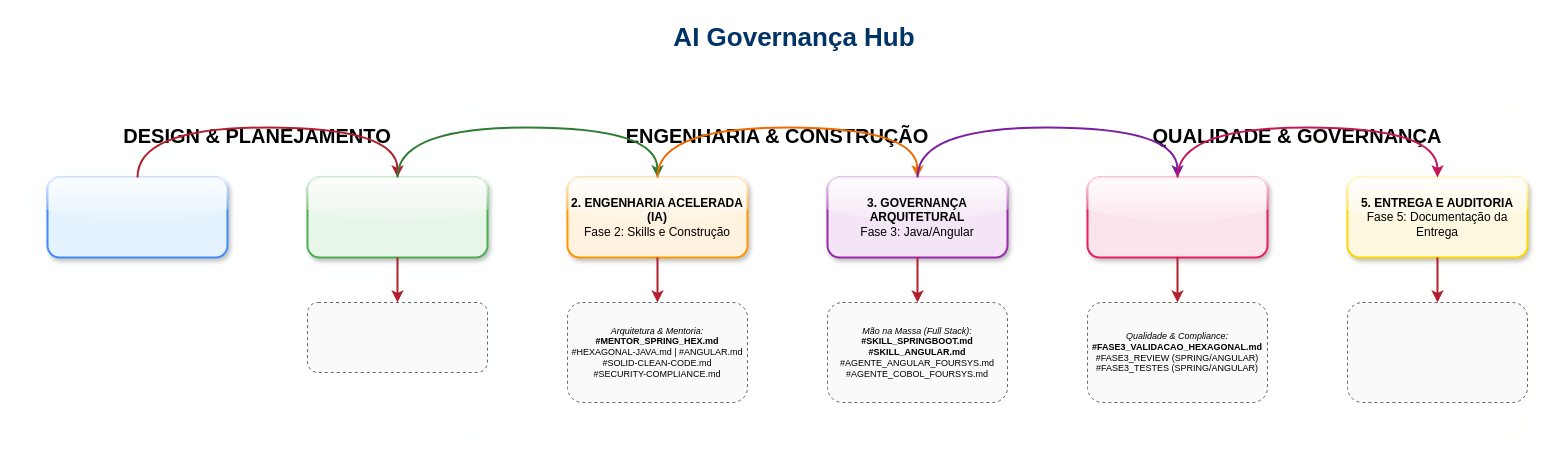
This 1554x464 diagram has some shape labels left out. The centre of each missing label's shape, as x and y in pixels:
"1. REFINAMENTO Fase 1: Histórias" belongs at point (398, 218).
"4. QUALIDADE & COMPLIANCE Fase 4: Testes e Validação" belongs at point (1178, 218).
"Finalização Hub: #RELEASE_NOTES.md #GIT_COMMIT_PATTERN.md #DOCUMENTACAO_API.md" belongs at point (1437, 352).
"HISTÓRIA DO NEGÓCIO" belongs at point (138, 218).
"Refinement: #ESTORIA_USUARIO.md #GERADOR_CRITERIOS.md" belongs at point (397, 337).
